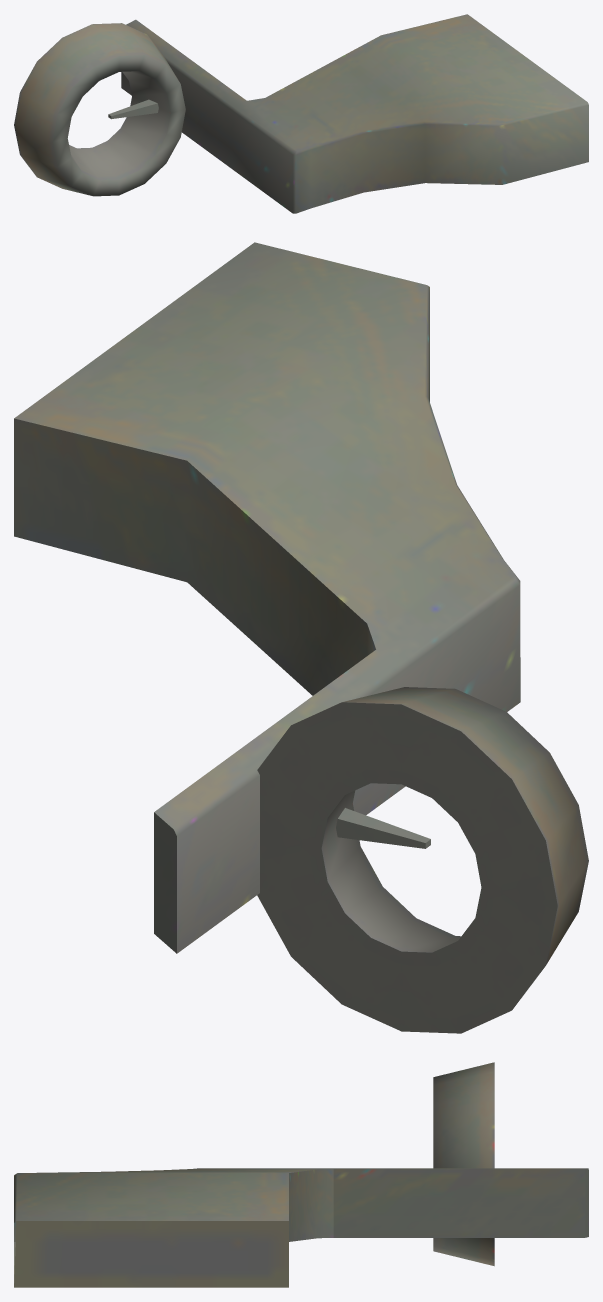
File: sight1.obj
3 views of the same model, one above another, from view 1: azimuth 30°, elevation 25°; view 2: azimuth 150°, elevation 25°; view 3: azimuth 270°, elevation 25° (orthographic). The views are drawn at different scales.
Visible parts, largest first — view 1: sight1; view 2: sight1; view 3: sight1.
Boxes of the visible parts, x1=… form: sight1: x1=14, y1=14, x2=588, y2=213; sight1: x1=14, y1=242, x2=588, y2=1033; sight1: x1=14, y1=1062, x2=588, y2=1287.
Size of the model in its own units: 15.01 by 6.75 by 18.2.
